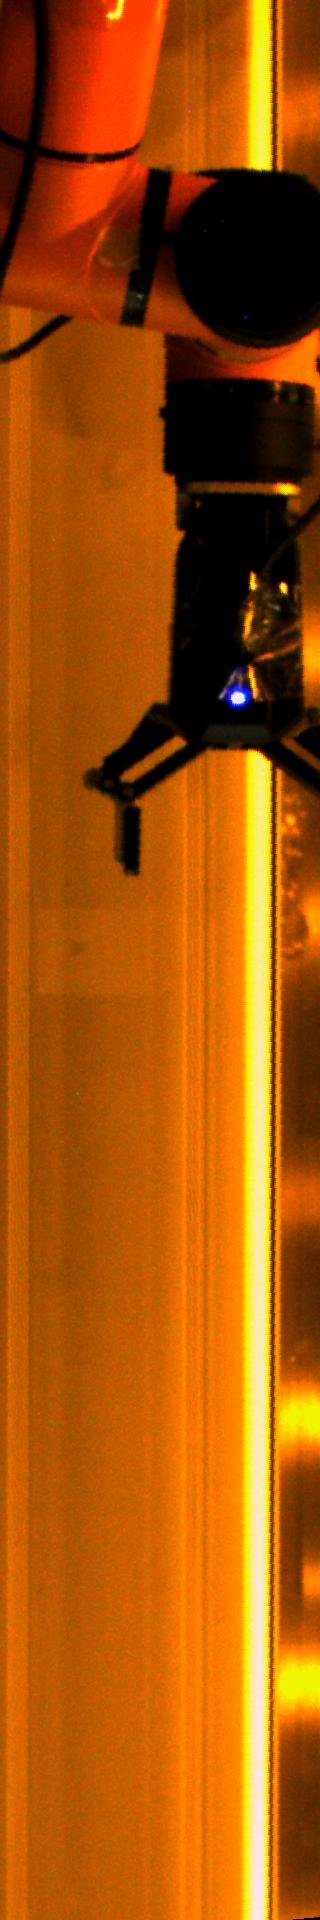keyPoint_1: (223, 683, 253, 713)
